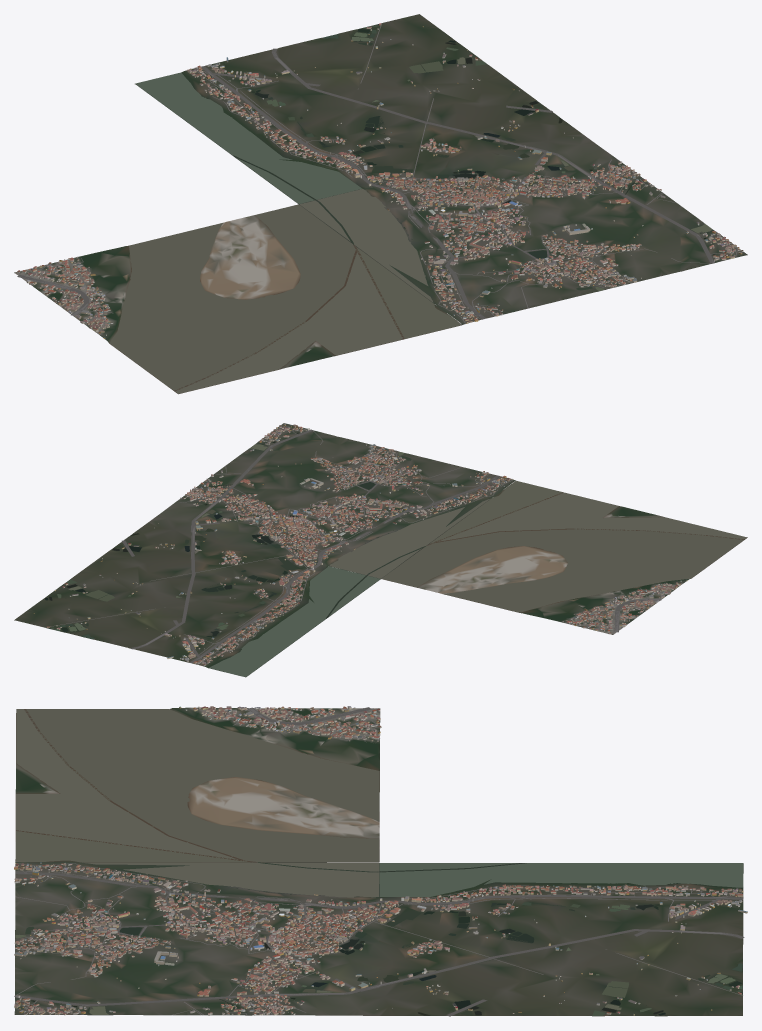
The picture shows the model from 3 angles, top to bottom: view 1: azimuth 30°, elevation 25°; view 2: azimuth 150°, elevation 25°; view 3: azimuth 270°, elevation 25°; orthographic projection. The views are drawn at different scales.
Parts seen in each view (by area): view 1: ground, water, buildings, roads; view 2: ground, water, buildings, roads; view 3: ground, water, buildings, roads.
Boxes of the visible parts, <box> form: ground: <box>14,14,747,394</box>; water: <box>109,24,715,393</box>; buildings: <box>17,23,743,338</box>; roads: <box>15,23,737,333</box>; ground: <box>14,423,747,677</box>; water: <box>45,432,747,676</box>; buildings: <box>33,424,687,665</box>; roads: <box>45,425,681,664</box>; ground: <box>14,707,743,1016</box>; water: <box>15,709,743,1015</box>; buildings: <box>14,706,747,1015</box>; roads: <box>14,707,744,1016</box>.
Bounding box in the file's own units: 2813 × 29.5 × 2827.
